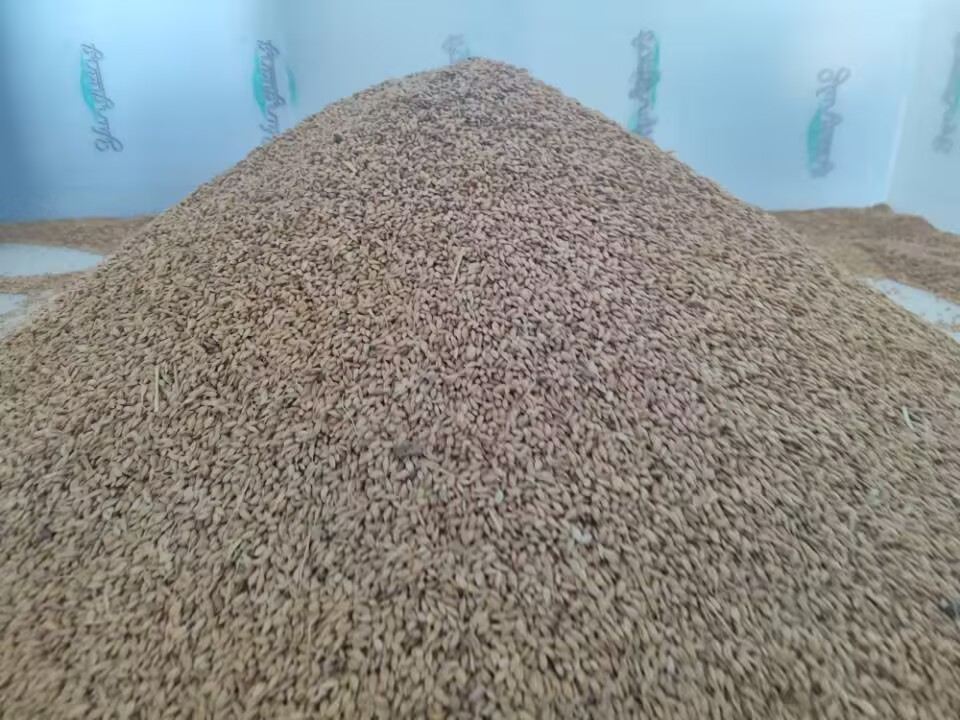Grain: (34, 10, 951, 691)
